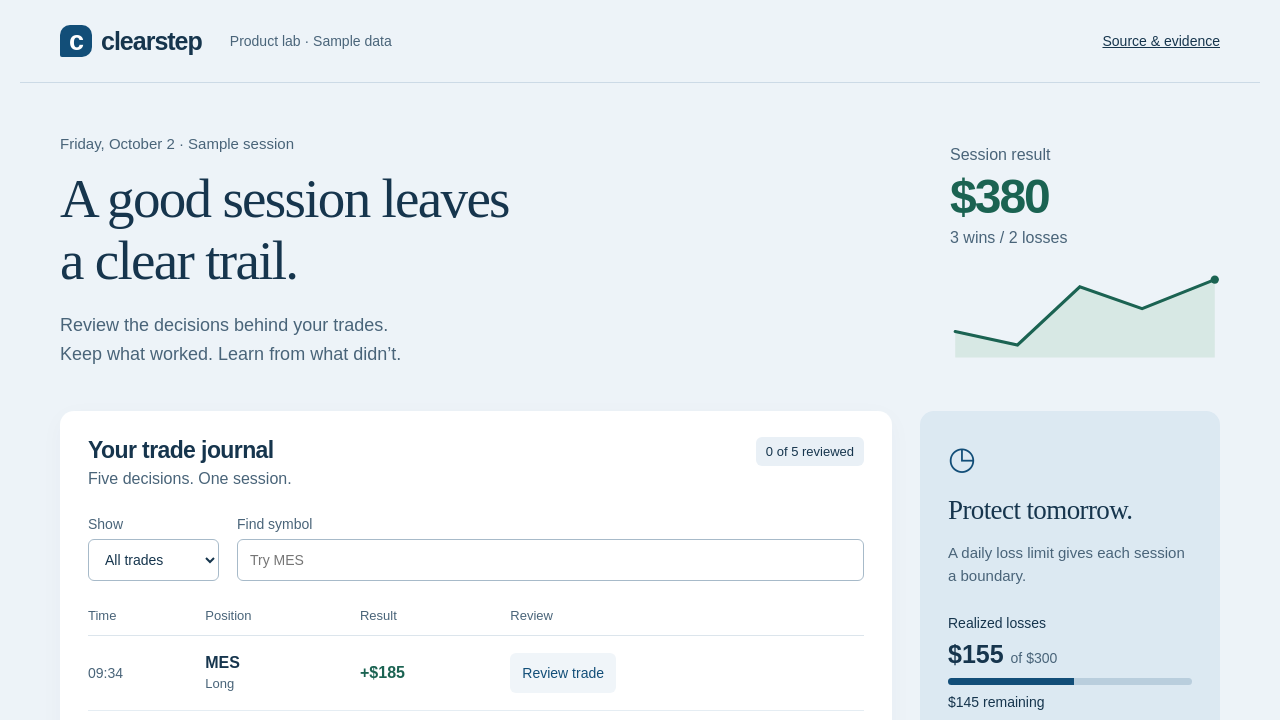
Session journal › reviews a trade and persists
This screenshot has width=1280, height=720.
Click the button with aria-label "Review MES at 09:34".
click(563, 673)  # box [510,653,616,693]
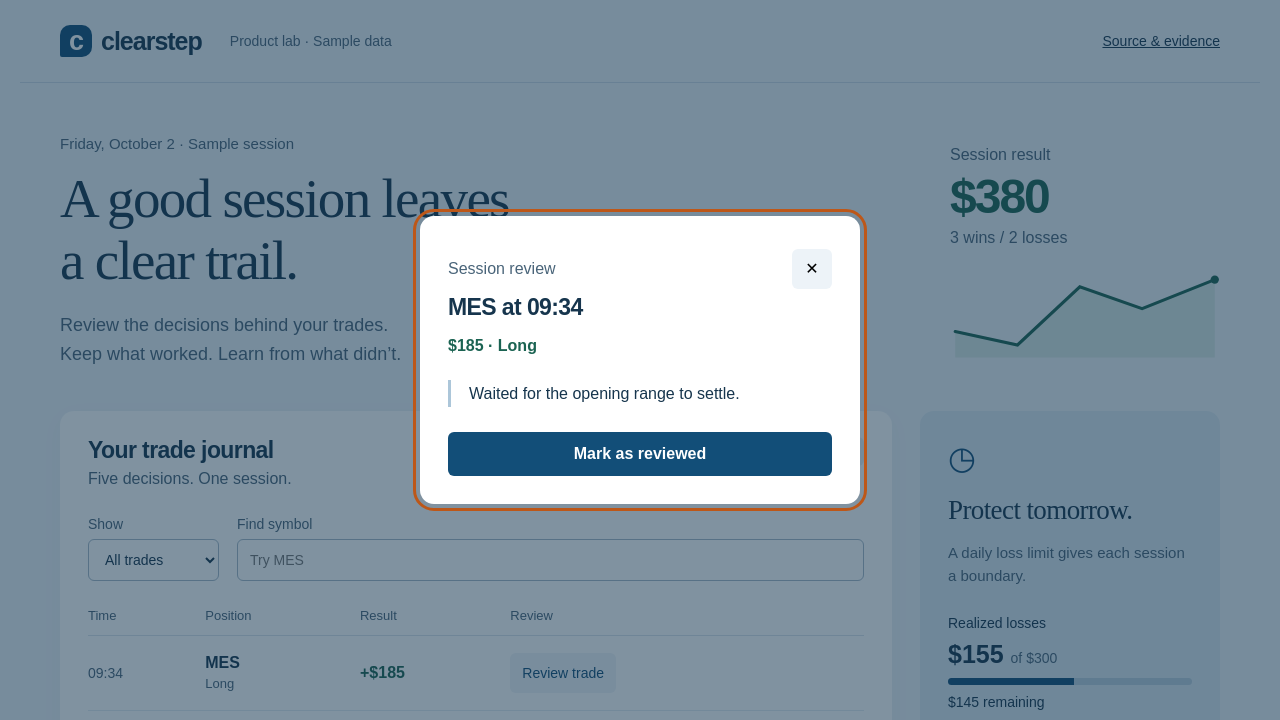
Result: the heading "MES at 09:34" is shown at [448,294,583,320]
Click the button "Mark as reviewed".
click(640, 454)  # box [448,432,832,476]
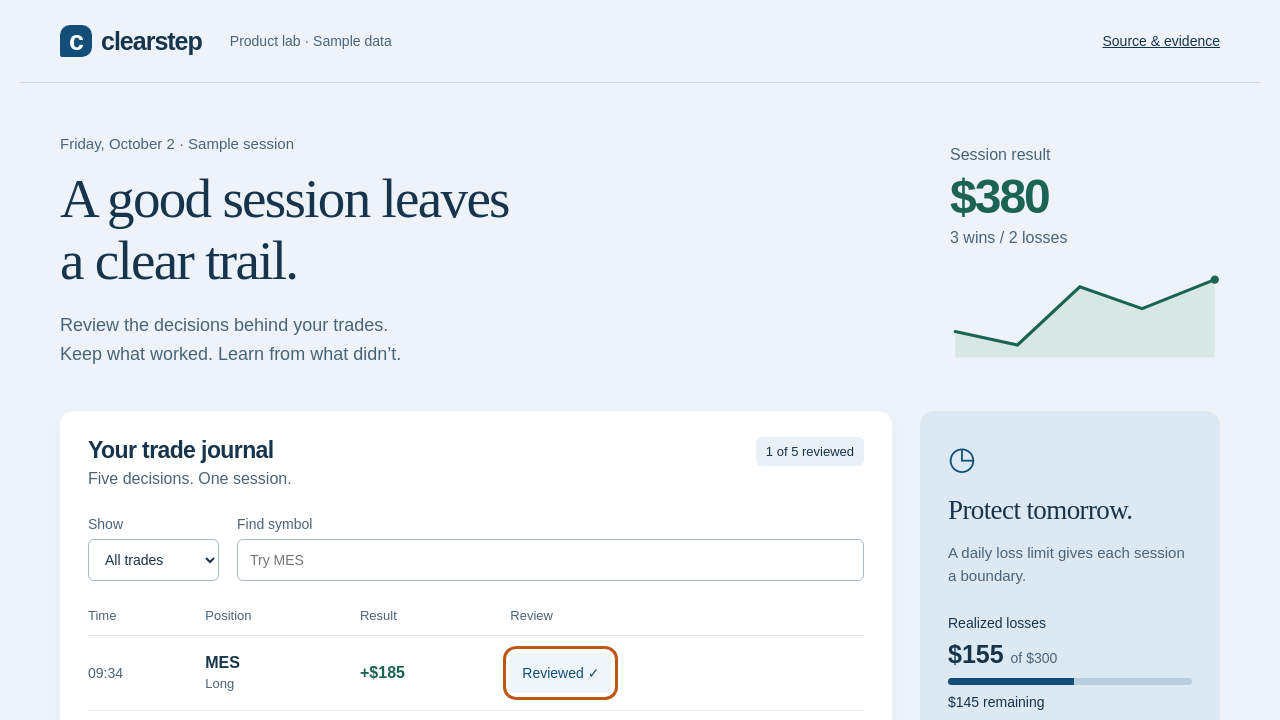
Result: the text "1 of 5 reviewed" is shown at [756,437,864,466]
